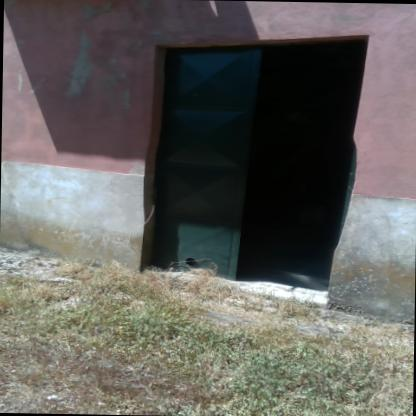open: (138, 21, 372, 291)
